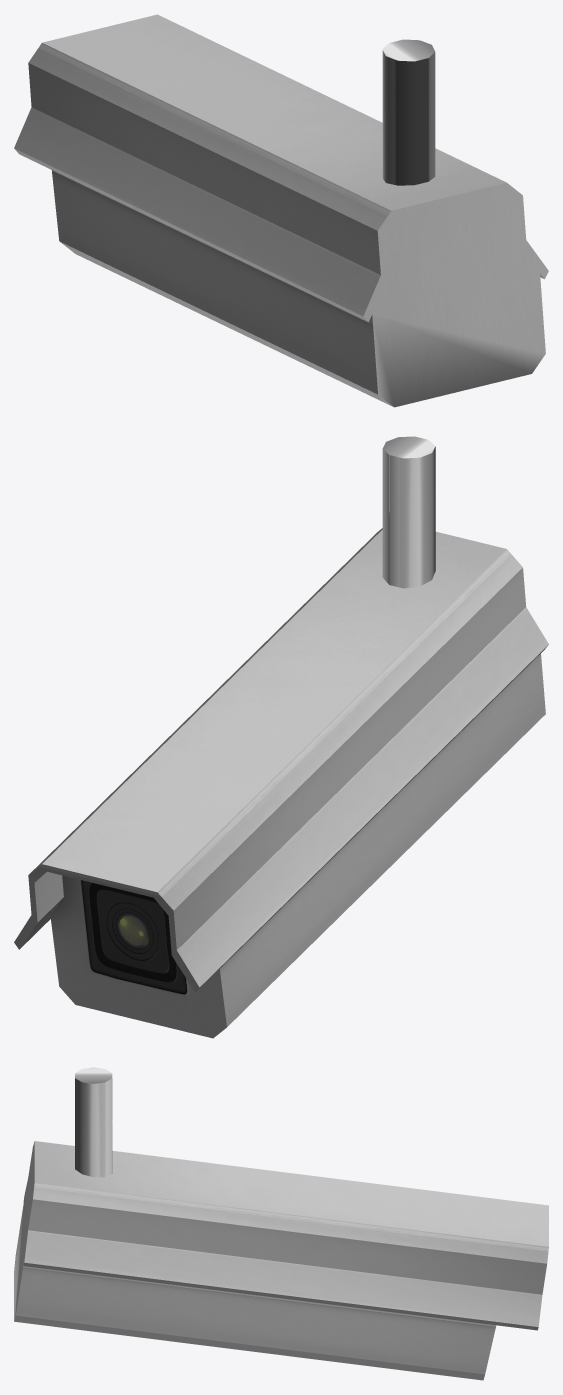
File: sec_camera.FBX
The picture shows the model from 3 angles, top to bottom: view 1: azimuth 30°, elevation 25°; view 2: azimuth 150°, elevation 25°; view 3: azimuth 270°, elevation 25°; orthographic projection. The views are drawn at different scales.
Visible parts, largest first — view 1: Box001; view 2: Box001; view 3: Box001.
Boxes of the visible parts, x1,y1,x2,y2 form: Box001: [14, 14, 548, 407]; Box001: [14, 436, 548, 1038]; Box001: [14, 1067, 548, 1380].
Size of the model in its own units: 39.72 by 77.81 by 135.
